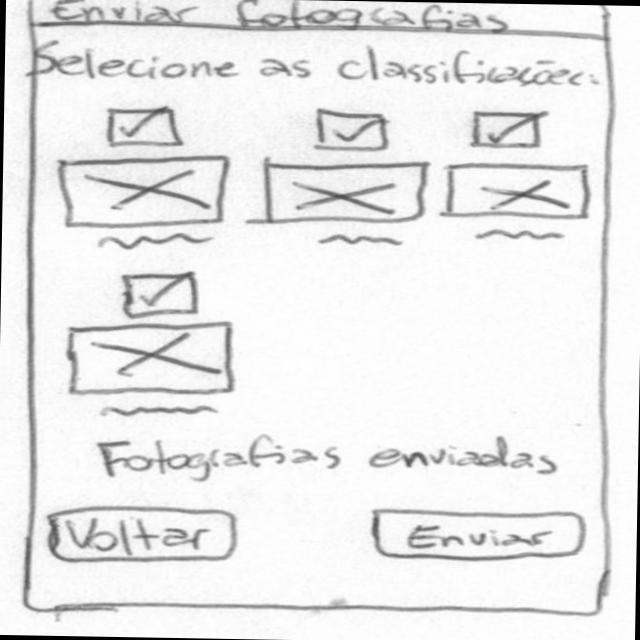button: (41, 502, 243, 567), (367, 508, 588, 565)
checkbox: (117, 268, 209, 321), (305, 105, 400, 155), (470, 106, 555, 153), (103, 105, 189, 150)
container: (22, 32, 623, 623), (27, 1, 620, 44)
image: (69, 319, 242, 397), (57, 154, 232, 231), (259, 156, 431, 229), (445, 159, 594, 224)
label: (39, 43, 606, 92), (93, 429, 568, 485), (50, 1, 516, 35)
text: (98, 229, 221, 252), (98, 402, 224, 423), (316, 230, 409, 253), (475, 227, 572, 246)
